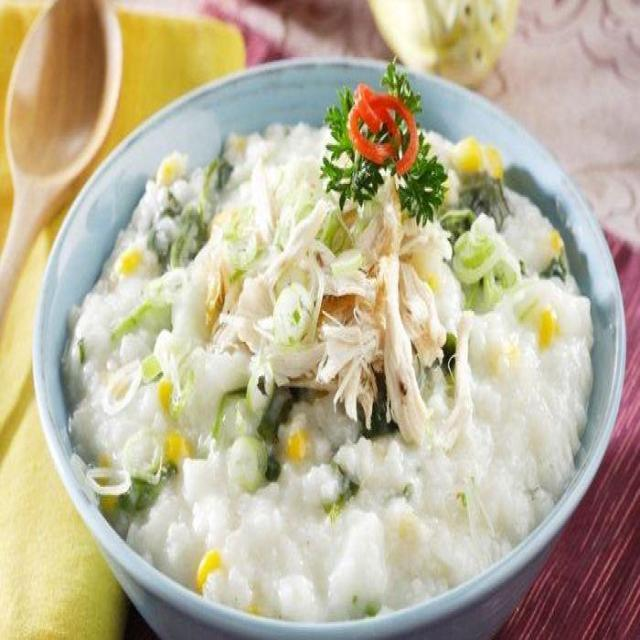bubur ayam: (62, 126, 596, 622)
mangkuk: (20, 58, 626, 630)
